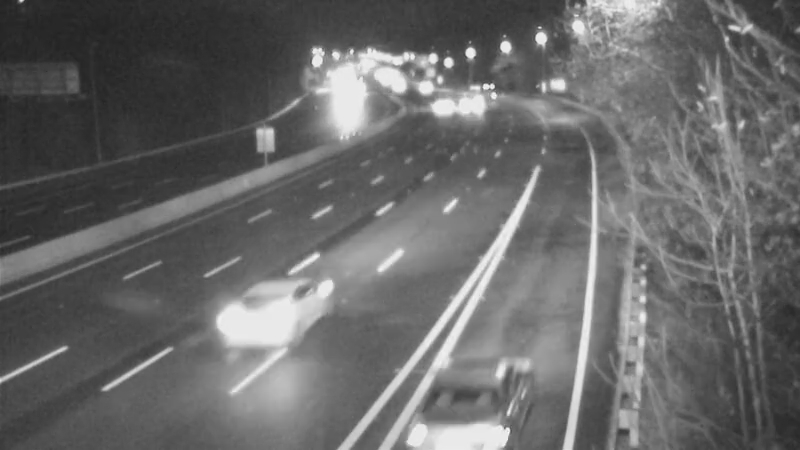vehicle: (207, 261, 317, 371), (406, 351, 516, 450), (399, 64, 449, 114), (455, 70, 505, 120), (412, 78, 462, 128), (443, 84, 493, 134)
